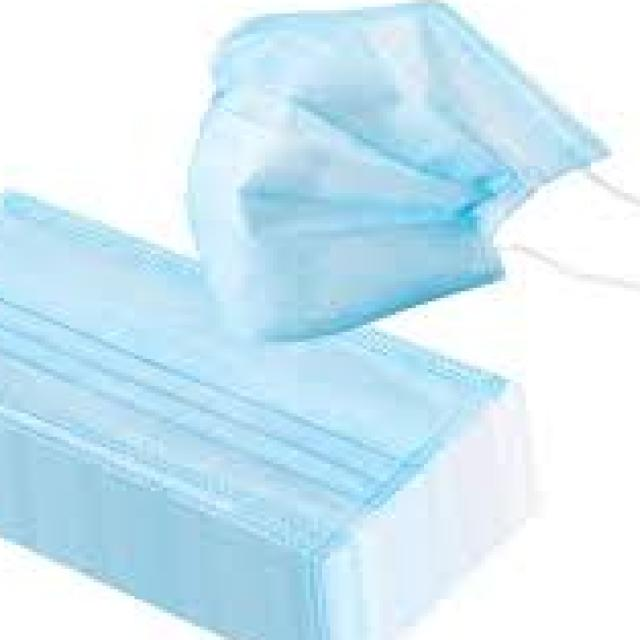organic: (6, 9, 594, 618)
